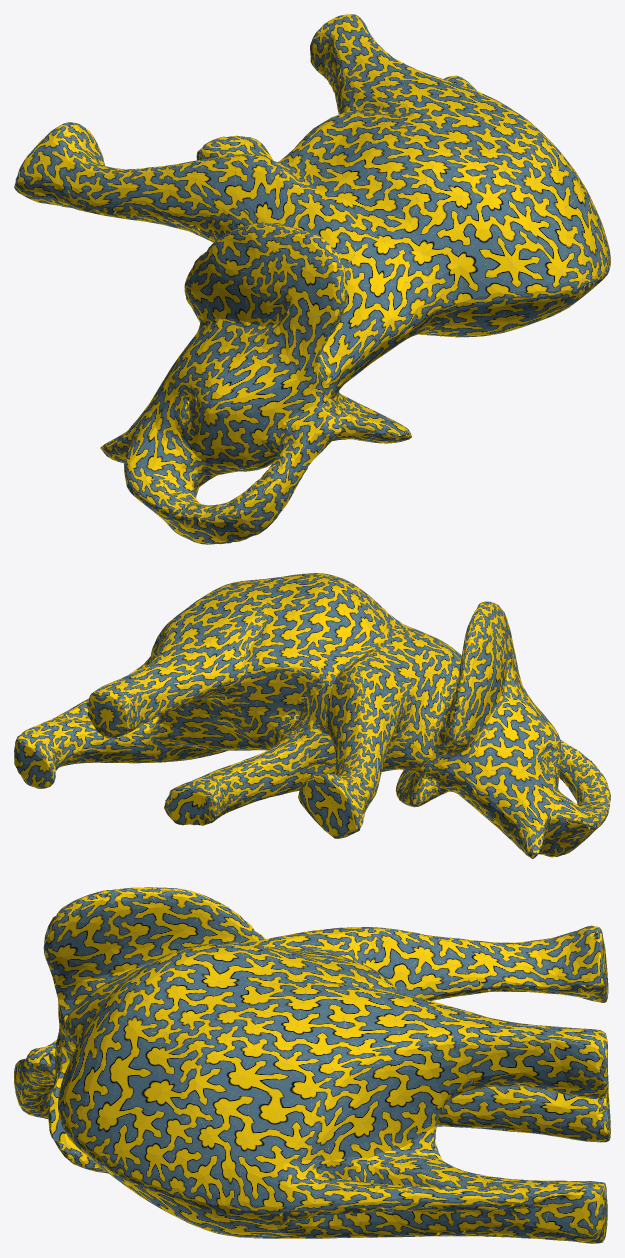
The model's file is carved_wooden_elephant_1k.fbx.
3 views of the same model, one above another, from view 1: azimuth 30°, elevation 25°; view 2: azimuth 150°, elevation 25°; view 3: azimuth 270°, elevation 25° (orthographic). The views are drawn at different scales.
Parts seen in each view (by area): view 1: carved_wooden_elephant_1k; view 2: carved_wooden_elephant_1k; view 3: carved_wooden_elephant_1k.
Part boxes in pixels (<box>): carved_wooden_elephant_1k: <box>14,14,610,544</box>; carved_wooden_elephant_1k: <box>14,573,610,858</box>; carved_wooden_elephant_1k: <box>14,887,610,1243</box>.
Size of the model in its own units: 0.1089 by 0.0571 by 0.0958.
Materials: 1 (1 with a texture image).
